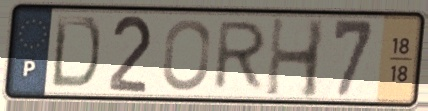2: (107, 13, 154, 95)
7: (331, 16, 375, 101)
D: (48, 13, 103, 92)
H: (262, 13, 329, 101)
O: (160, 16, 214, 93)
R: (209, 19, 271, 94)
